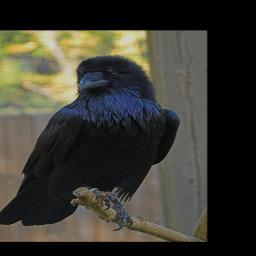Crow: (0, 54, 180, 231)
